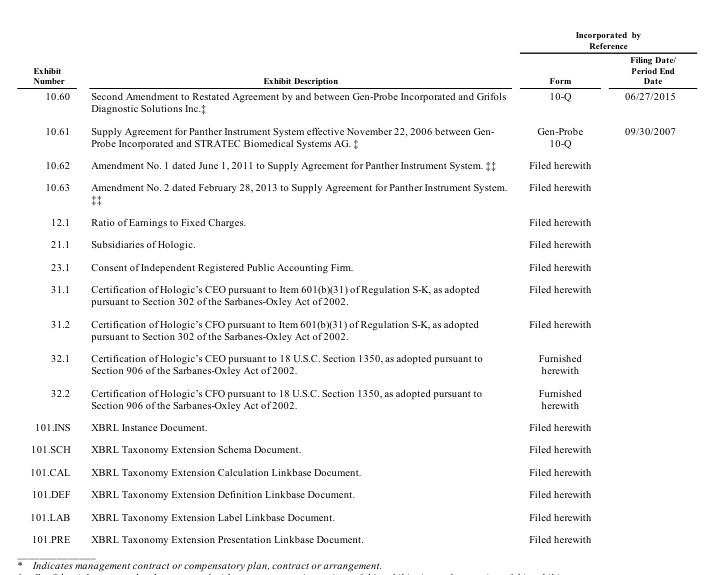table: (29, 29, 674, 544)
table column: (79, 29, 517, 544), (517, 29, 607, 544), (607, 29, 674, 544), (29, 29, 79, 544)
table column header: (29, 29, 674, 87)
table row: (29, 51, 674, 87), (29, 118, 674, 153), (29, 175, 674, 210), (29, 311, 674, 346), (29, 380, 674, 415), (29, 277, 674, 311), (29, 346, 674, 380), (29, 87, 674, 118), (29, 232, 674, 255), (29, 437, 674, 460), (29, 482, 674, 505), (29, 29, 674, 51), (29, 153, 674, 175), (29, 210, 674, 232), (29, 255, 674, 277), (29, 415, 674, 437), (29, 460, 674, 482), (29, 505, 674, 527), (29, 527, 674, 544)
table spanning cell: (79, 29, 517, 87), (517, 29, 674, 51), (29, 29, 79, 87)
